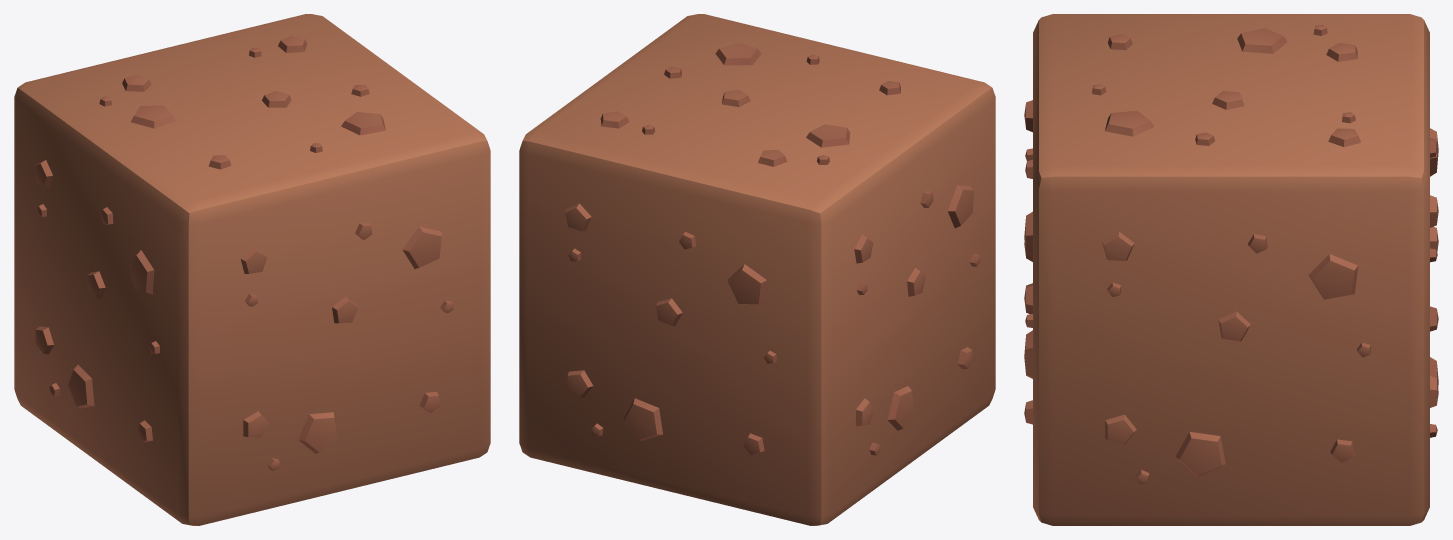
Rendered from dirt.glb.
3 views of the same model, side by side, from view 1: azimuth 30°, elevation 25°; view 2: azimuth 150°, elevation 25°; view 3: azimuth 270°, elevation 25° (orthographic). The views are drawn at different scales.
Parts seen in each view (by area): view 1: dirt; view 2: dirt; view 3: dirt.
Boxes of the visible parts, box(x1,y1,x2,y2) form: dirt: box(14, 14, 490, 525); dirt: box(519, 14, 995, 525); dirt: box(1024, 14, 1438, 525).
Bounding box in the file's own units: 2.09 × 2.09 × 2.09.
Materials: 1 (1 with a texture image).
